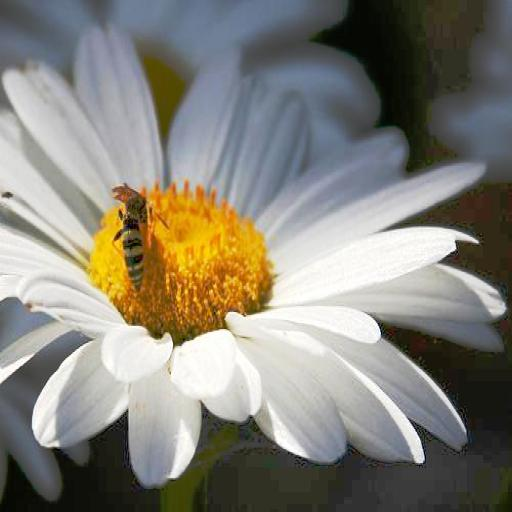daisy: (0, 4, 509, 500)
